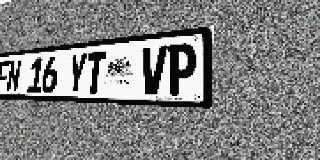1: (27, 57, 45, 93)
6: (41, 56, 60, 93)
F: (0, 61, 10, 92)
N: (6, 59, 22, 93)
P: (166, 42, 197, 96)
T: (84, 51, 107, 94)
V: (139, 45, 168, 95)
Y: (66, 53, 88, 94)
